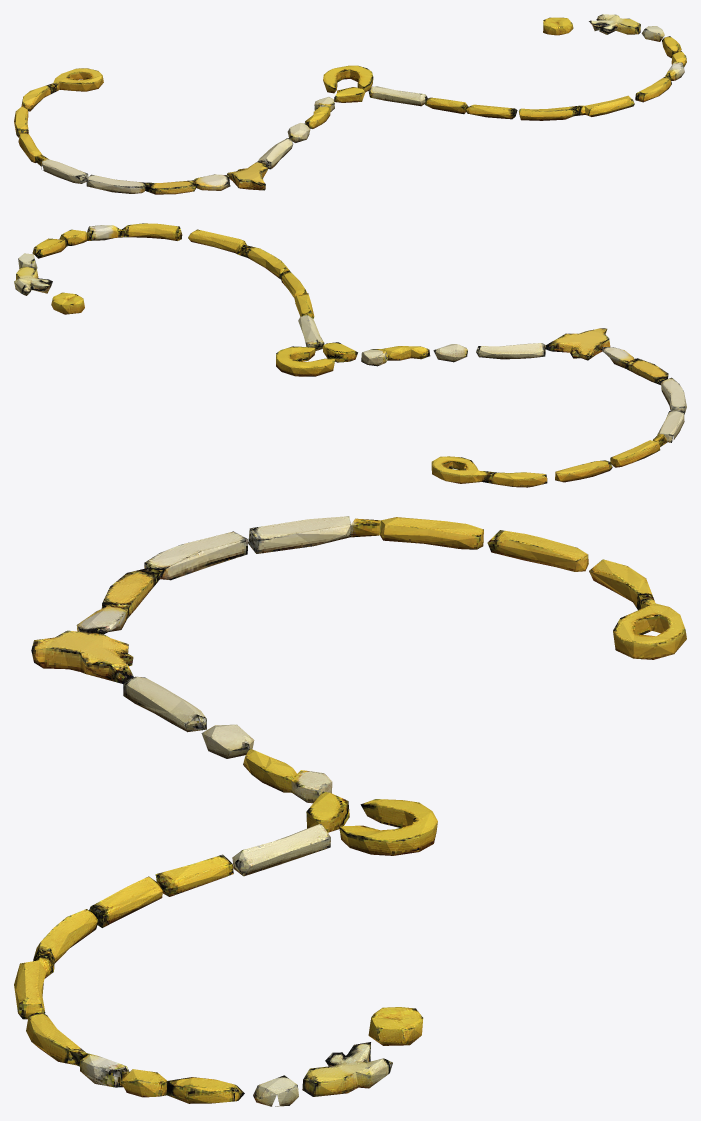
Rendered from map_path_line.glb.
3 renders of one model, top to bottom at view 1: azimuth 30°, elevation 25°; view 2: azimuth 150°, elevation 25°; view 3: azimuth 270°, elevation 25°, orthographic. The views are drawn at different scales.
Parts seen in each view (by area): view 1: world; view 2: world; view 3: world.
Boxes of the visible parts, x1,y1,x2,y2 form: world: (14, 14, 686, 194); world: (14, 223, 686, 487); world: (14, 516, 686, 1106).
Bounding box in the file's own units: 1 × 0.0216 × 0.4938.
1 material, 1 textured.
